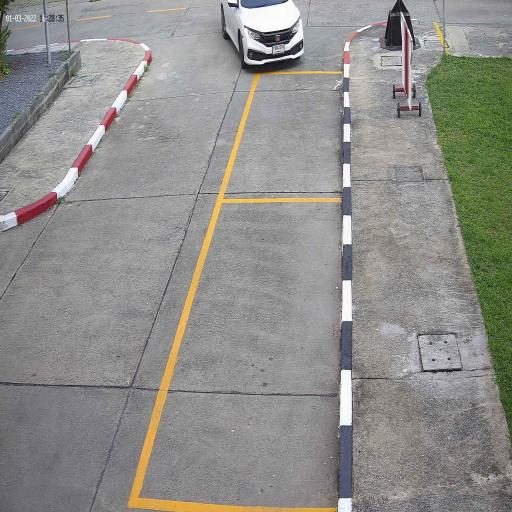car: (220, 0, 305, 70)
